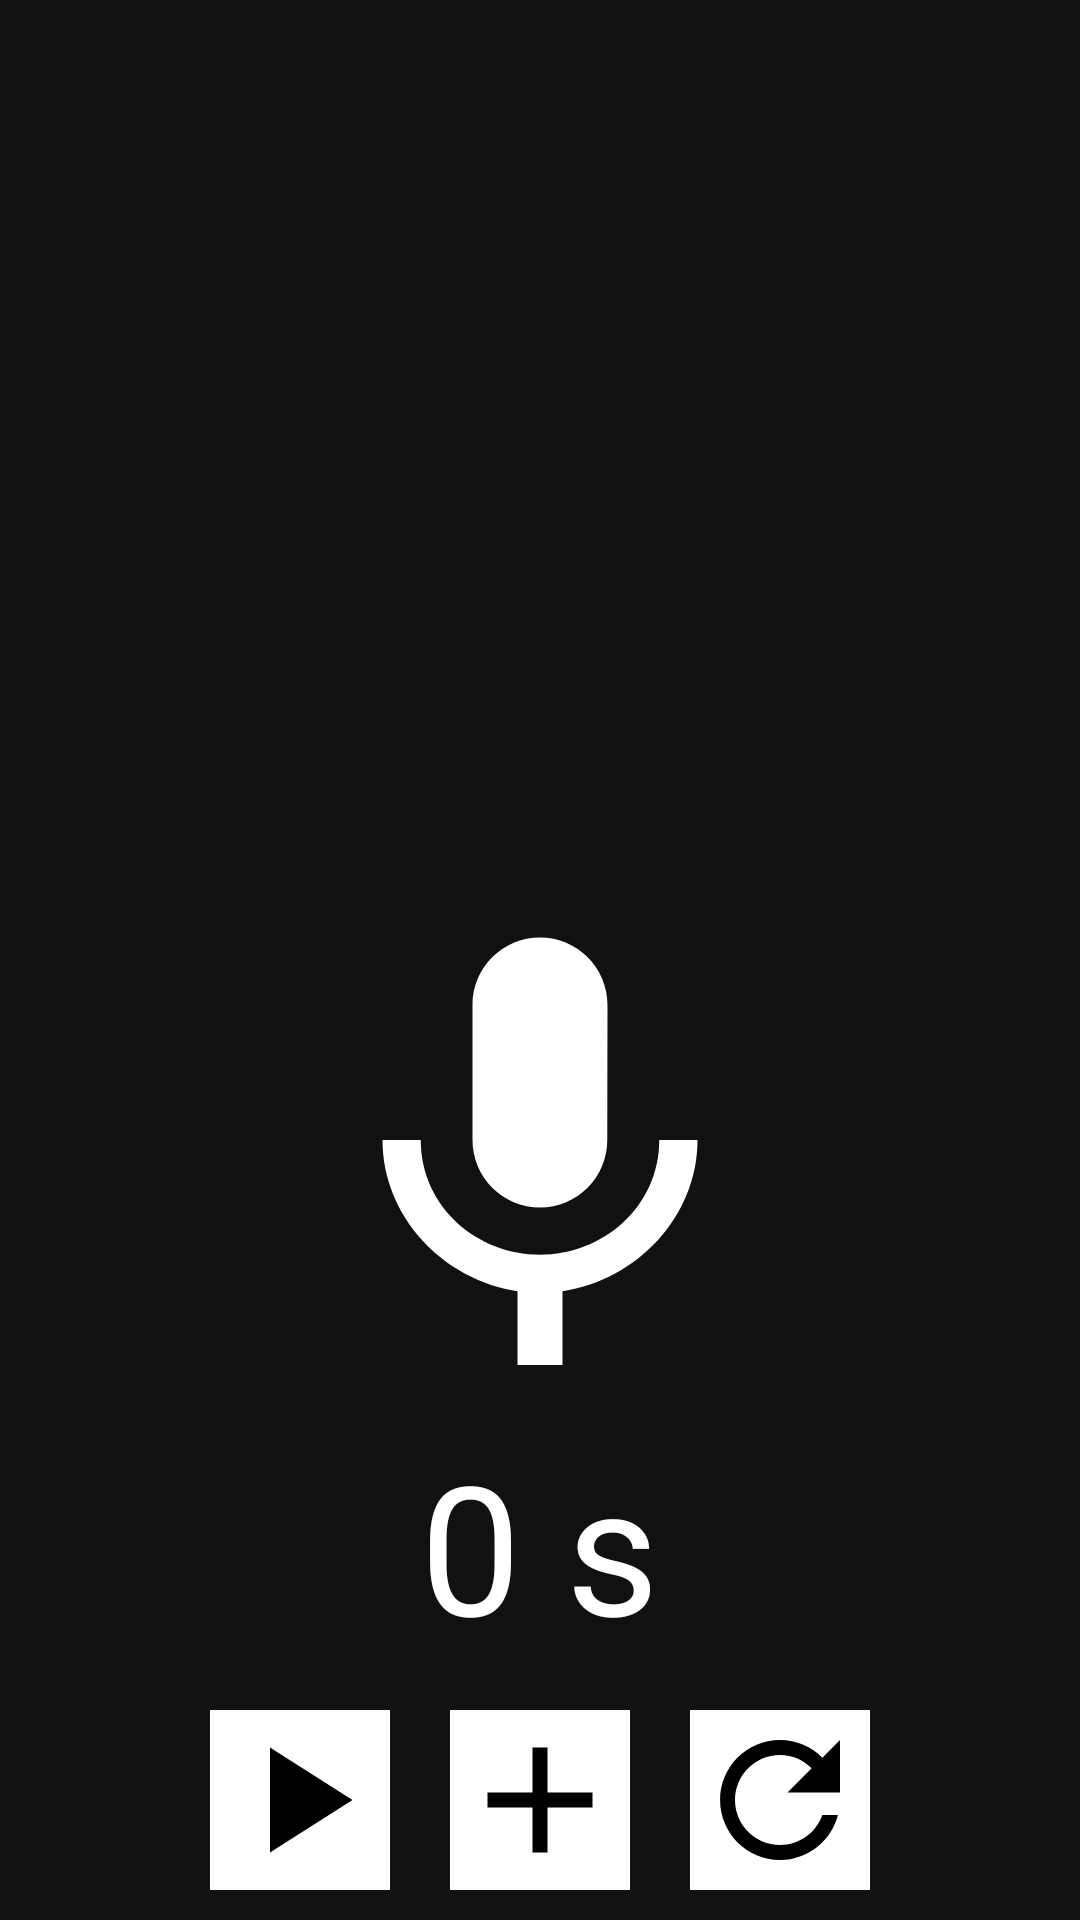

Point at icon controls on the screen. Image size 1080px×1920px, points as [x,y].
add: [540,1800]
again: [780,1800]
play: [300,1800]
